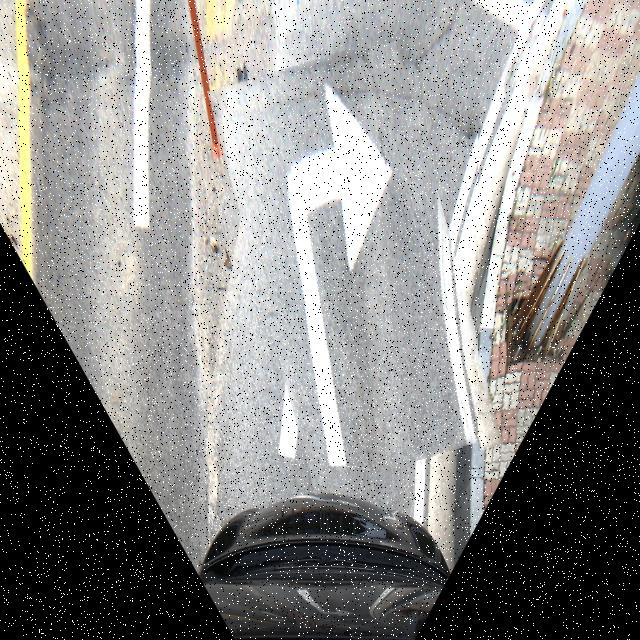right: (233, 50, 478, 486)
